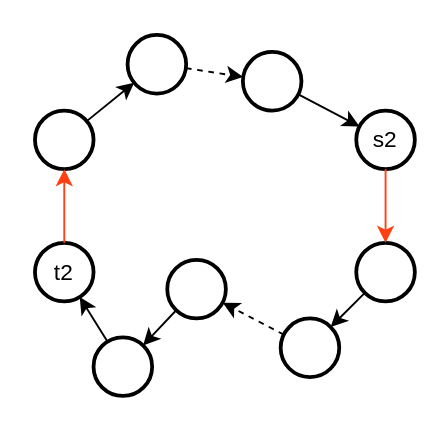
The diagram is 448 pixels wide and 429 high, and some of its shapes have lost their labels. The centre of each missing label's shape, as x and y in pixels:
s1: the point at 63,139
t1: the point at 384,271
